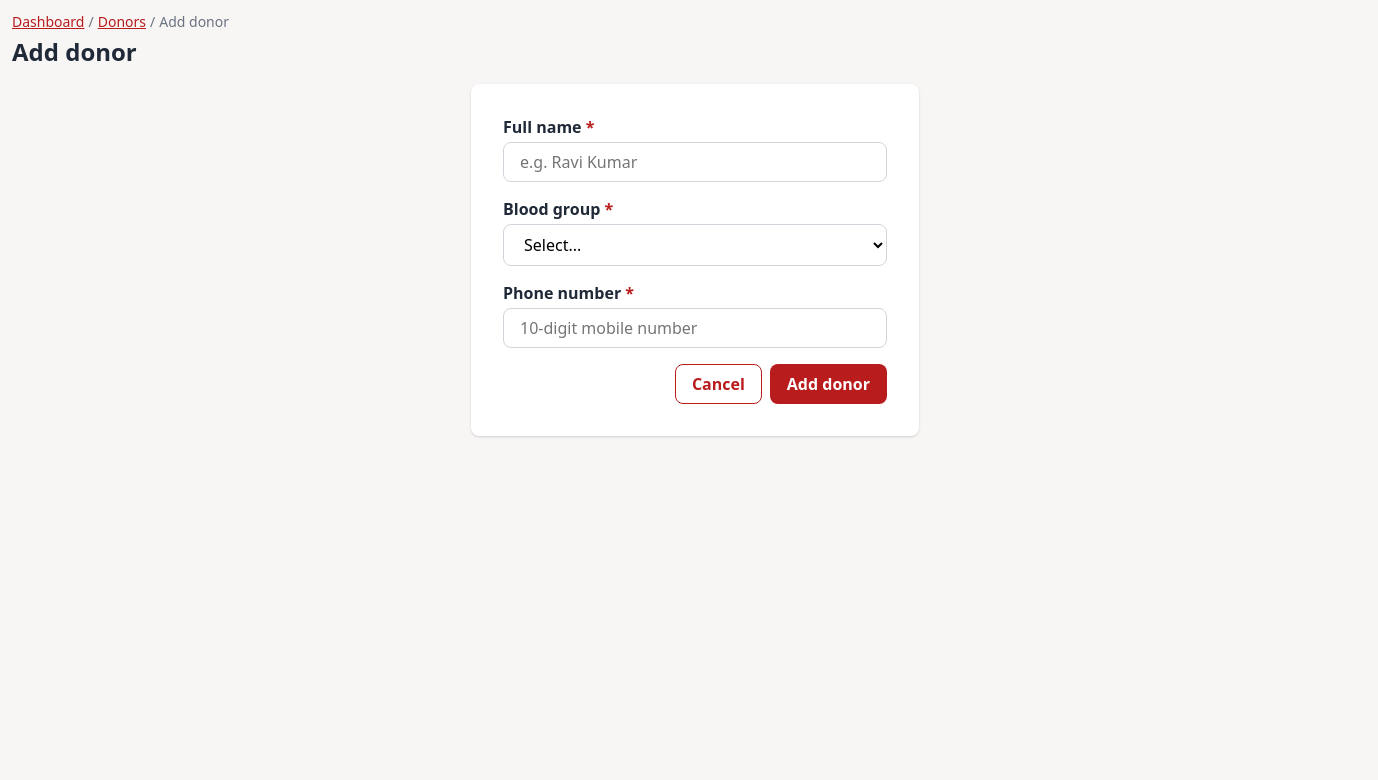
Test: DonorFormPage › shows an error toast and stays on the form when saving fails
Type "Ravi Kumar" into the field labelled "Full name" at (695, 162), box x1=503 y1=142 x2=887 y2=182
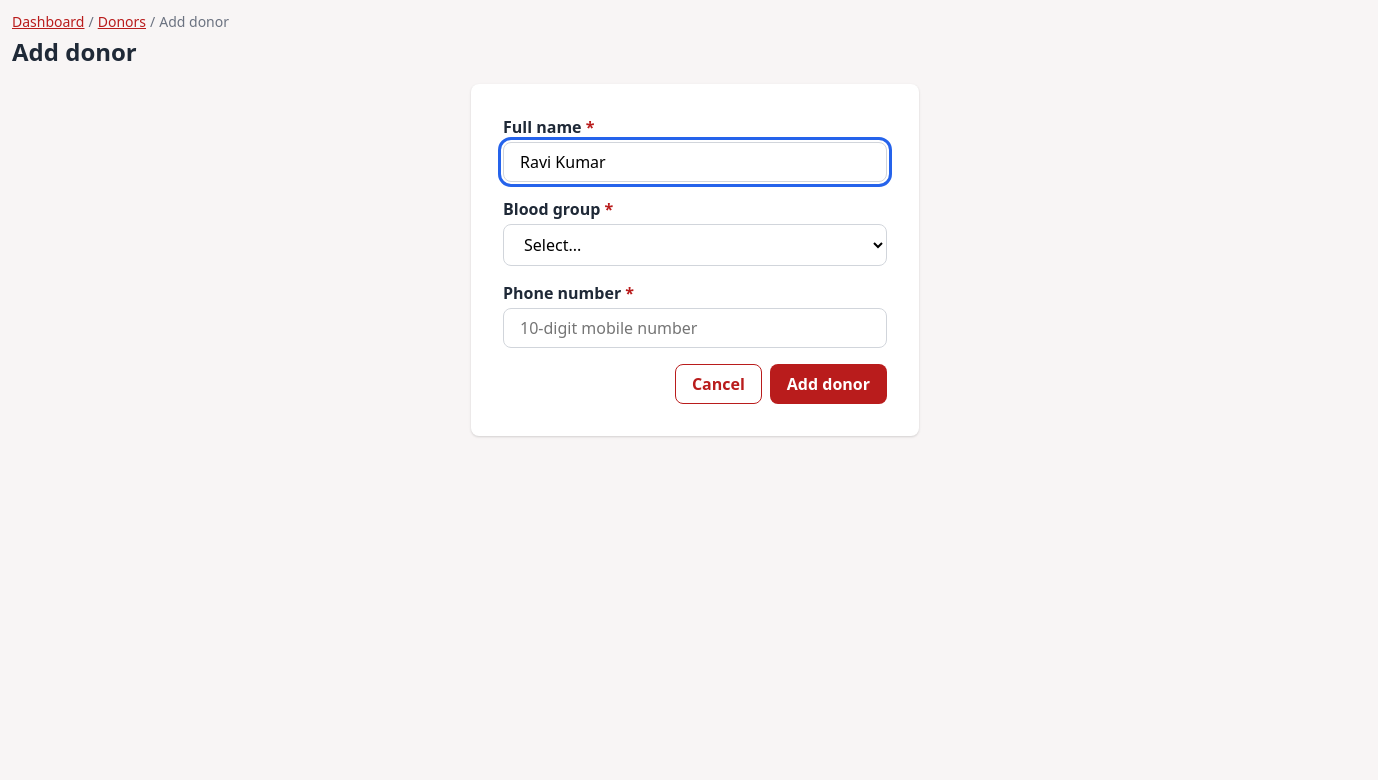
Select "B+" in the dropdown labelled "Blood group" at (695, 245), box x1=503 y1=224 x2=887 y2=266
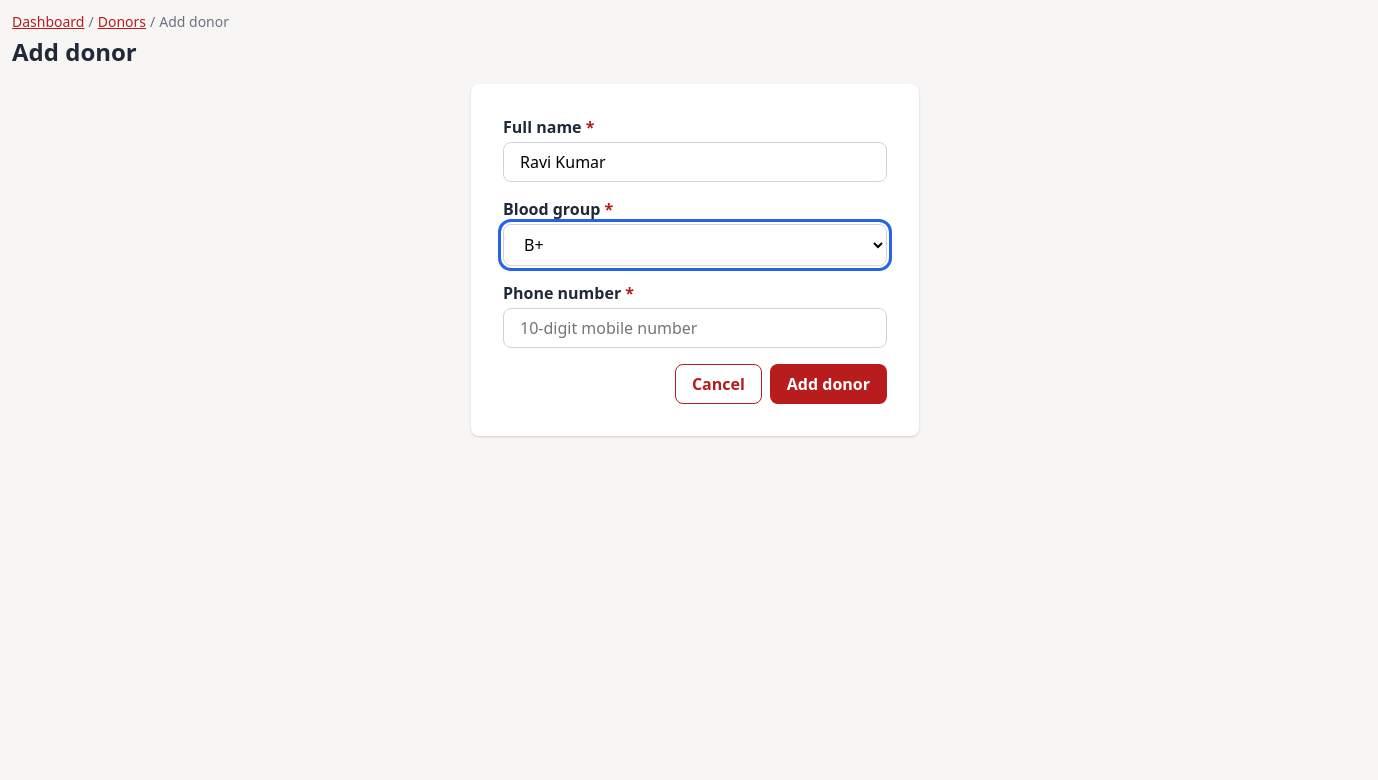
Type "9876500001" into the field labelled "Phone number" at (695, 328), box x1=503 y1=308 x2=887 y2=348
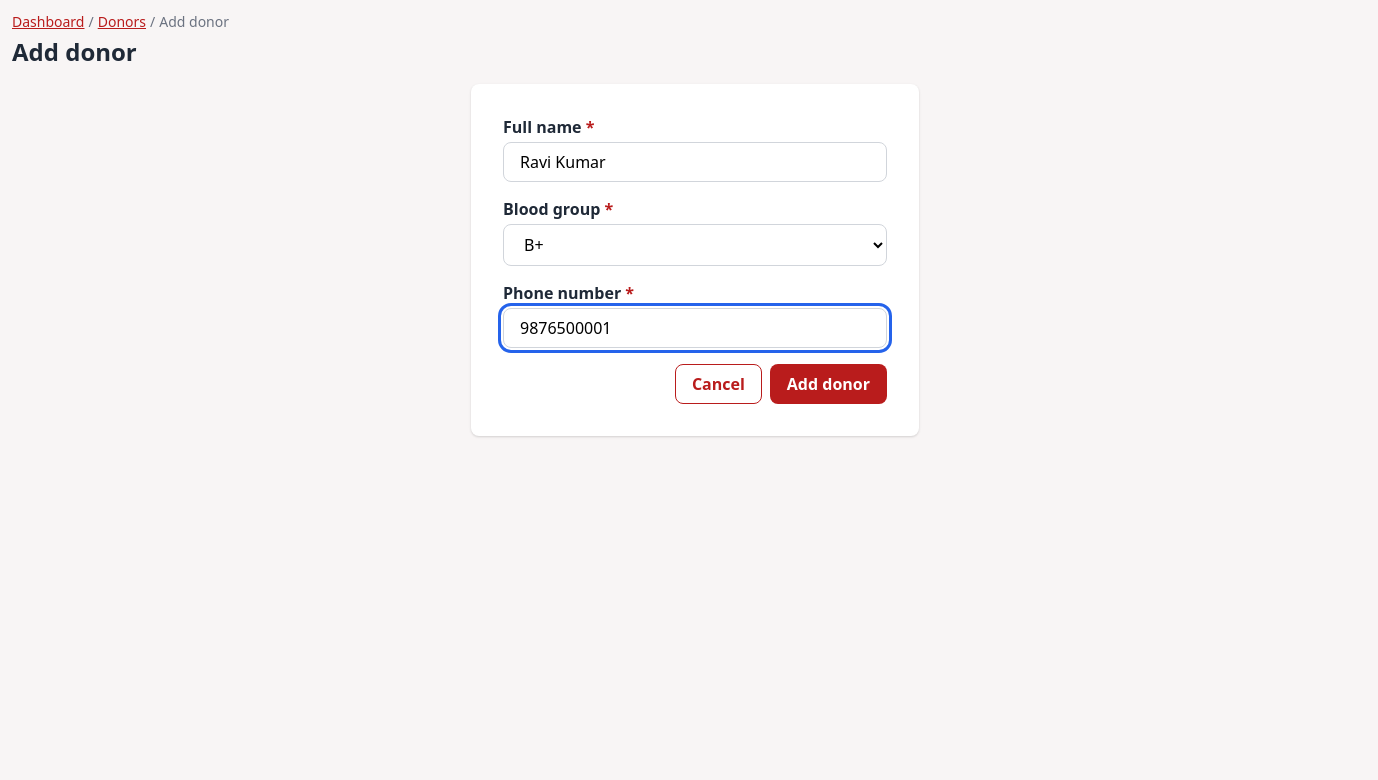
Click the button "Add donor" at (828, 384), box x1=770 y1=364 x2=887 y2=404
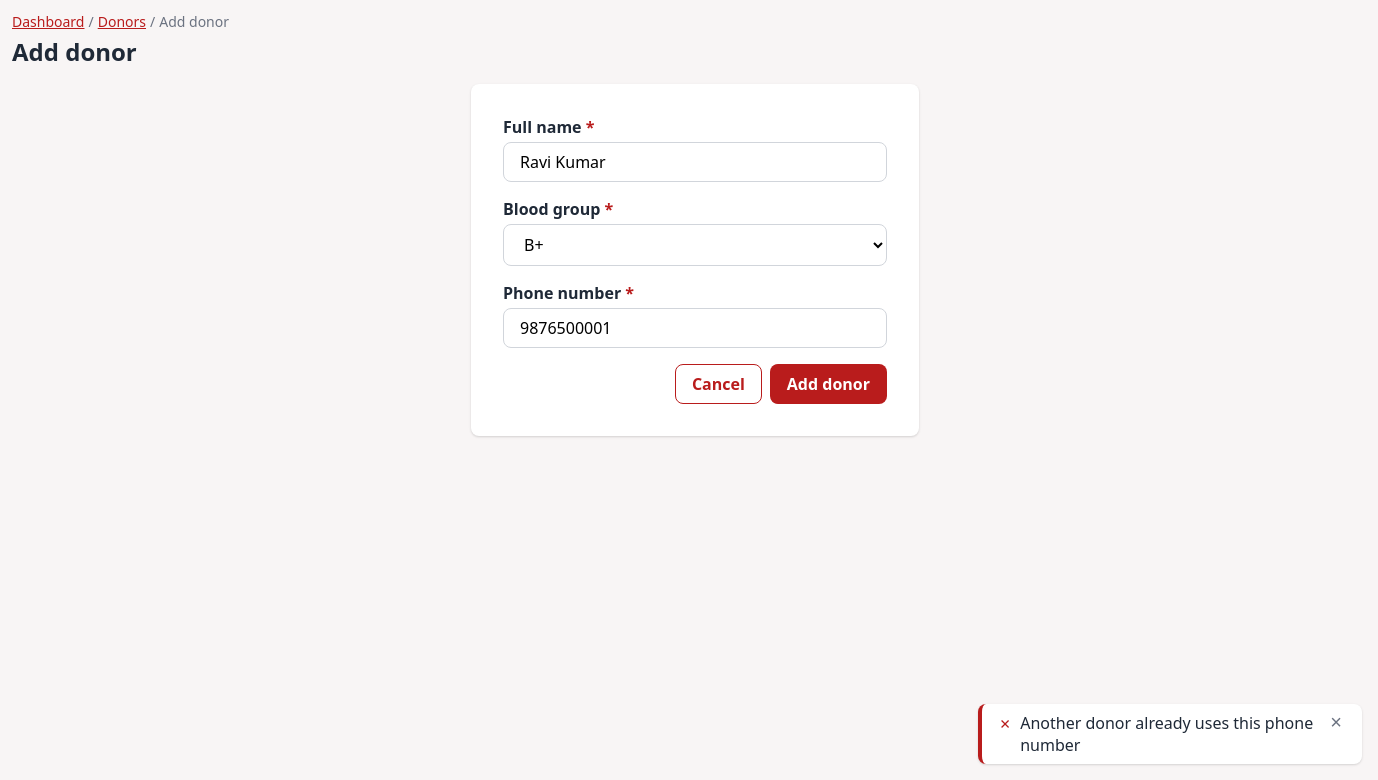
Result: the message shows "Another donor already uses this phone number" at x1=1020 y1=712 x2=1313 y2=756
